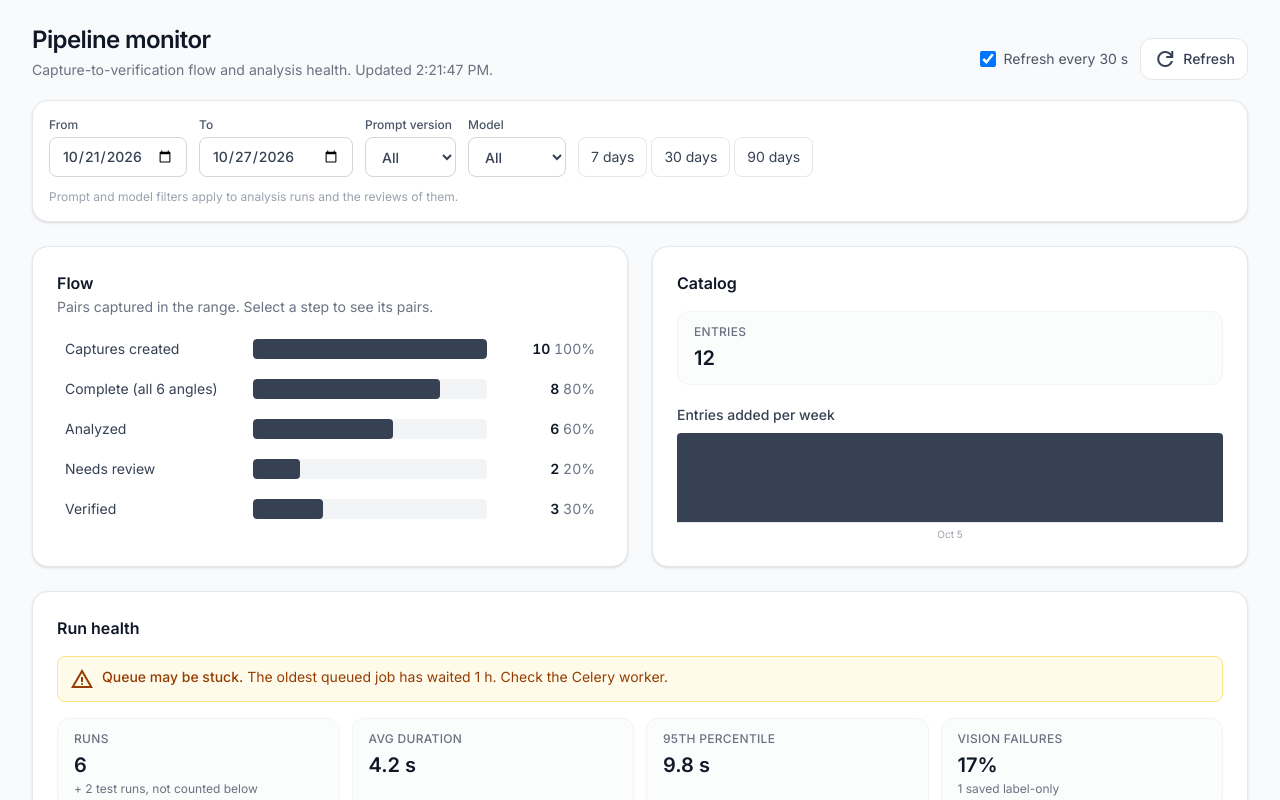
Test: PipelineMonitorPage › lists the pairs at a funnel step
Click the button "Needs review 2 20%": (330, 469) [57, 453, 603, 485]
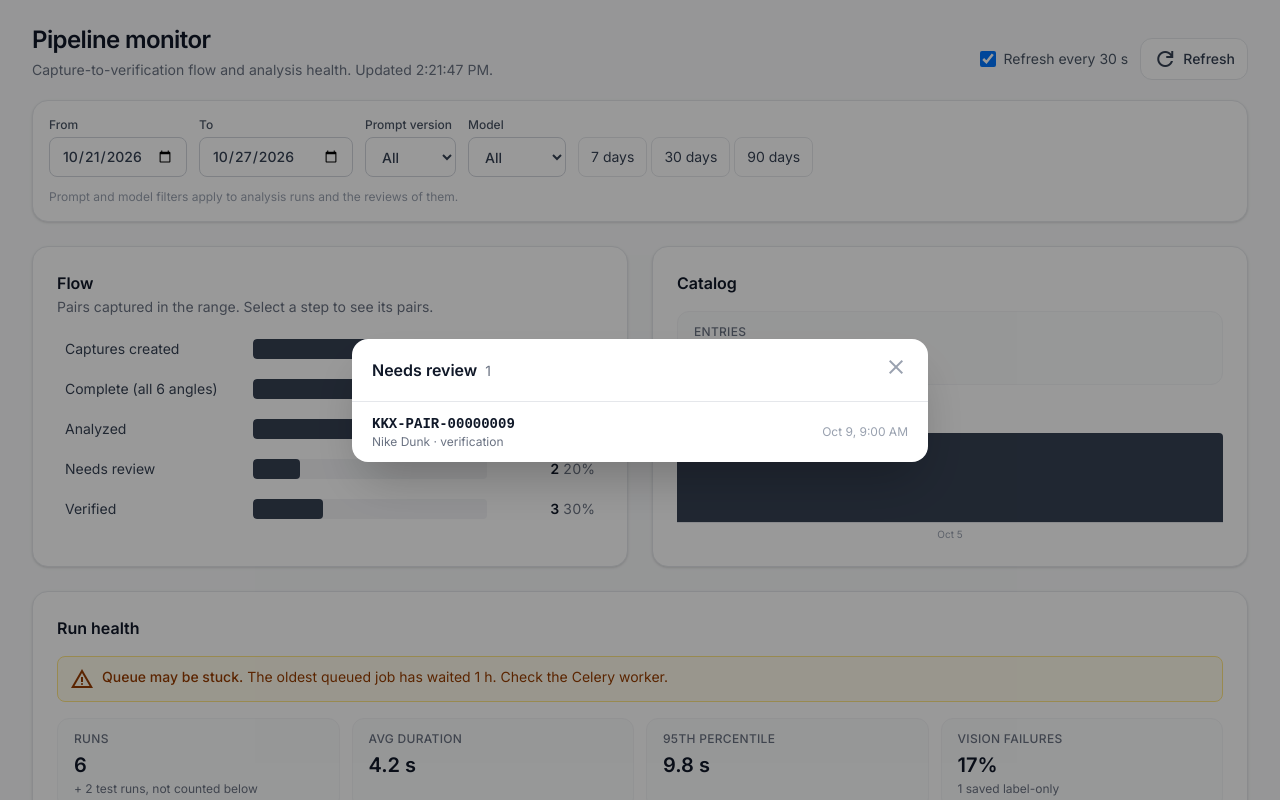
Expected: the text "KKX-PAIR-00000009" is shown, [372, 414, 515, 434]
